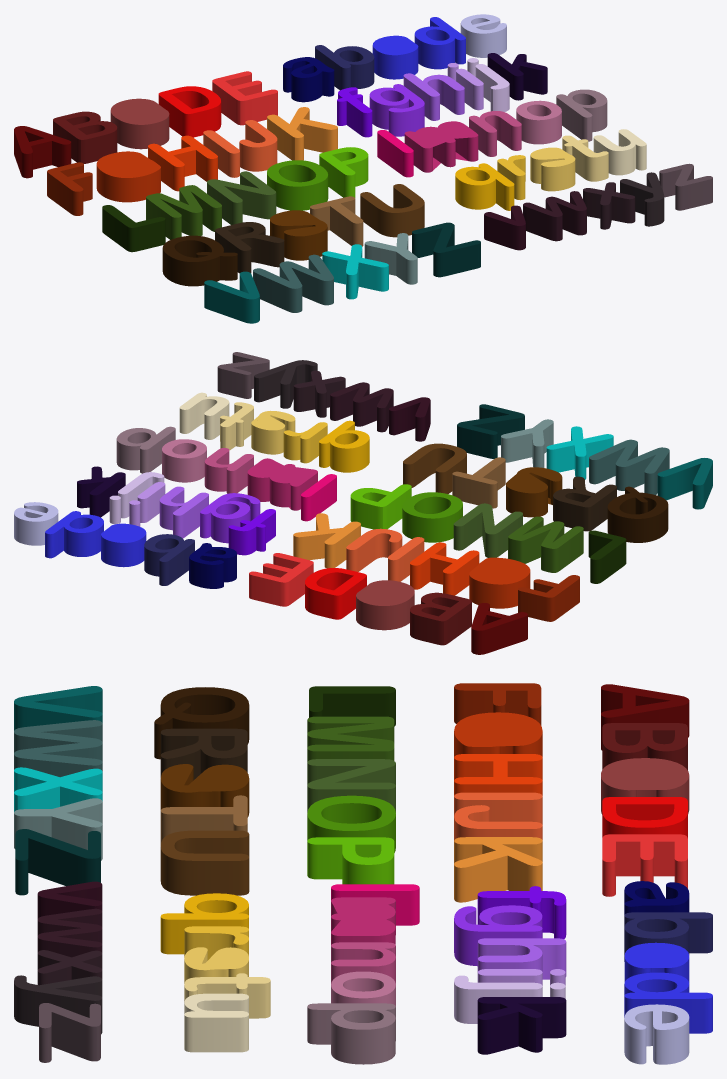
3 views of the same model, one above another, from view 1: azimuth 30°, elevation 25°; view 2: azimuth 150°, elevation 25°; view 3: azimuth 270°, elevation 25° (orthographic). The views are drawn at different scales.
Parts seen in each view (by area): view 1: Mesh59 Group22 ABCDE_FGHIJK_LMN1 Model, Mesh48 Group18 ABCDE_FGHIJK_LMN1 Model, Mesh25 Group9 ABCDE_FGHIJK_LMN1 Model, Mesh31 Group12 ABCDE_FGHIJK_LMN1 Model, Mesh126 Group46 abcde_fghijk_lmn_1_1 Model, Mesh35 Group14 ABCDE_FGHIJK_LMN1 Model, Mesh11 Group4 ABCDE_FGHIJK_LMN1 Model, Mesh63 Group24 ABCDE_FGHIJK_LMN1 Model, Mesh8 Group3 ABCDE_FGHIJK_LMN1 Model, Mesh51 Group19 ABCDE_FGHIJK_LMN1 Model, Mesh33 Group13 ABCDE_FGHIJK_LMN1 Model, Mesh15 Group5 ABCDE_FGHIJK_LMN1 Model (+40 smaller); view 2: Mesh31 Group12 ABCDE_FGHIJK_LMN1 Model, Mesh59 Group22 ABCDE_FGHIJK_LMN1 Model, Mesh48 Group18 ABCDE_FGHIJK_LMN1 Model, Mesh4 Group2 ABCDE_FGHIJK_LMN1 Model, Mesh35 Group14 ABCDE_FGHIJK_LMN1 Model, Mesh126 Group46 abcde_fghijk_lmn_1_1 Model, Mesh25 Group9 ABCDE_FGHIJK_LMN1 Model, Mesh8 Group3 ABCDE_FGHIJK_LMN1 Model, Mesh11 Group4 ABCDE_FGHIJK_LMN1 Model, Mesh15 Group5 ABCDE_FGHIJK_LMN1 Model, Mesh68 Group26 ABCDE_FGHIJK_LMN1 Model, Mesh63 Group24 ABCDE_FGHIJK_LMN1 Model (+40 smaller); view 3: Mesh51 Group19 ABCDE_FGHIJK_LMN1 Model, Mesh17 Group6 ABCDE_FGHIJK_LMN1 Model, Mesh115 Group43 abcde_fghijk_lmn_1_1 Model, Mesh145 Group51 abcde_fghijk_lmn_1_1 Model, Mesh59 Group22 ABCDE_FGHIJK_LMN1 Model, Mesh15 Group5 ABCDE_FGHIJK_LMN1 Model, Mesh63 Group24 ABCDE_FGHIJK_LMN1 Model, Mesh40 Group15 ABCDE_FGHIJK_LMN1 Model, Mesh112 Group42 abcde_fghijk_lmn_1_1 Model, Mesh48 Group18 ABCDE_FGHIJK_LMN1 Model, Mesh31 Group12 ABCDE_FGHIJK_LMN1 Model, Mesh147 Group52 abcde_fghijk_lmn_1_1 Model (+40 smaller).
Boxes of the visible parts, left/top/right/bottom form: Mesh59 Group22 ABCDE_FGHIJK_LMN1 Model: left=253, top=254, right=333, bottom=312; Mesh48 Group18 ABCDE_FGHIJK_LMN1 Model: left=162, top=235, right=237, bottom=286; Mesh25 Group9 ABCDE_FGHIJK_LMN1 Model: left=96, top=151, right=160, bottom=202; Mesh31 Group12 ABCDE_FGHIJK_LMN1 Model: left=146, top=185, right=221, bottom=239; Mesh126 Group46 abcde_fghijk_lmn_1_1 Model: left=404, top=121, right=478, bottom=172; Mesh35 Group14 ABCDE_FGHIJK_LMN1 Model: left=267, top=160, right=328, bottom=210; Mesh11 Group4 ABCDE_FGHIJK_LMN1 Model: left=158, top=86, right=221, bottom=137; Mesh63 Group24 ABCDE_FGHIJK_LMN1 Model: left=412, top=222, right=480, bottom=277; Mesh8 Group3 ABCDE_FGHIJK_LMN1 Model: left=110, top=98, right=169, bottom=149; Mesh51 Group19 ABCDE_FGHIJK_LMN1 Model: left=360, top=184, right=424, bottom=237; Mesh33 Group13 ABCDE_FGHIJK_LMN1 Model: left=207, top=171, right=276, bottom=224; Mesh15 Group5 ABCDE_FGHIJK_LMN1 Model: left=212, top=71, right=277, bottom=125; Mesh31 Group12 ABCDE_FGHIJK_LMN1 Model: left=508, top=516, right=583, bottom=572; Mesh59 Group22 ABCDE_FGHIJK_LMN1 Model: left=589, top=439, right=669, bottom=494; Mesh48 Group18 ABCDE_FGHIJK_LMN1 Model: left=607, top=486, right=668, bottom=542; Mesh4 Group2 ABCDE_FGHIJK_LMN1 Model: left=410, top=592, right=471, bottom=645; Mesh35 Group14 ABCDE_FGHIJK_LMN1 Model: left=402, top=492, right=462, bottom=542; Mesh126 Group46 abcde_fghijk_lmn_1_1 Model: left=247, top=458, right=317, bottom=510; Mesh25 Group9 ABCDE_FGHIJK_LMN1 Model: left=469, top=557, right=530, bottom=608; Mesh8 Group3 ABCDE_FGHIJK_LMN1 Model: left=356, top=580, right=414, bottom=630; Mesh11 Group4 ABCDE_FGHIJK_LMN1 Model: left=305, top=568, right=366, bottom=619; Mesh15 Group5 ABCDE_FGHIJK_LMN1 Model: left=249, top=553, right=313, bottom=606; Mesh68 Group26 ABCDE_FGHIJK_LMN1 Model: left=410, top=542, right=479, bottom=595; Mesh63 Group24 ABCDE_FGHIJK_LMN1 Model: left=457, top=404, right=524, bottom=458; Mesh51 Group19 ABCDE_FGHIJK_LMN1 Model: left=160, top=830, right=249, bottom=895; Mesh17 Group6 ABCDE_FGHIJK_LMN1 Model: left=454, top=837, right=542, bottom=902; Mesh115 Group43 abcde_fghijk_lmn_1_1 Model: left=307, top=1003, right=395, bottom=1064; Mesh145 Group51 abcde_fghijk_lmn_1_1 Model: left=477, top=997, right=566, bottom=1054; Mesh59 Group22 ABCDE_FGHIJK_LMN1 Model: left=14, top=720, right=102, bottom=777; Mesh15 Group5 ABCDE_FGHIJK_LMN1 Model: left=602, top=834, right=687, bottom=896; Mesh63 Group24 ABCDE_FGHIJK_LMN1 Model: left=15, top=829, right=100, bottom=895; Mesh40 Group15 ABCDE_FGHIJK_LMN1 Model: left=307, top=837, right=394, bottom=884; Mesh112 Group42 abcde_fghijk_lmn_1_1 Model: left=184, top=993, right=248, bottom=1052; Mesh48 Group18 ABCDE_FGHIJK_LMN1 Model: left=154, top=687, right=249, bottom=759; Mesh31 Group12 ABCDE_FGHIJK_LMN1 Model: left=307, top=716, right=394, bottom=761; Mesh147 Group52 abcde_fghijk_lmn_1_1 Model: left=624, top=1004, right=689, bottom=1064.
Bounding box in the file's own units: 4.71 × 0.22 × 4.02.
